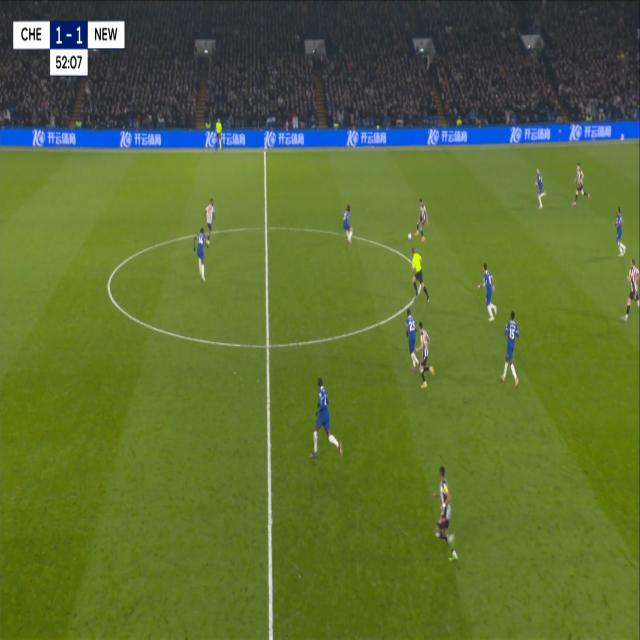Ball: (406, 230, 413, 243)
Chelsea: (307, 371, 345, 463), (498, 306, 523, 394), (476, 260, 501, 328), (402, 304, 419, 379), (191, 222, 211, 284), (532, 162, 550, 213), (613, 204, 628, 264), (340, 203, 356, 248)
New castle: (430, 461, 459, 568), (417, 322, 437, 391), (621, 258, 640, 326), (570, 159, 592, 211), (202, 195, 219, 248), (415, 197, 429, 244)
Refree: (406, 241, 431, 305)
